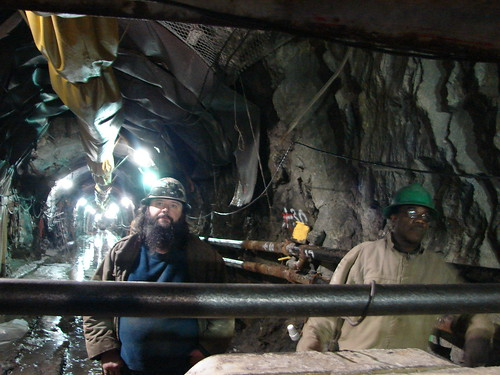person hardhat: (302, 162, 492, 363), (102, 172, 235, 373)
